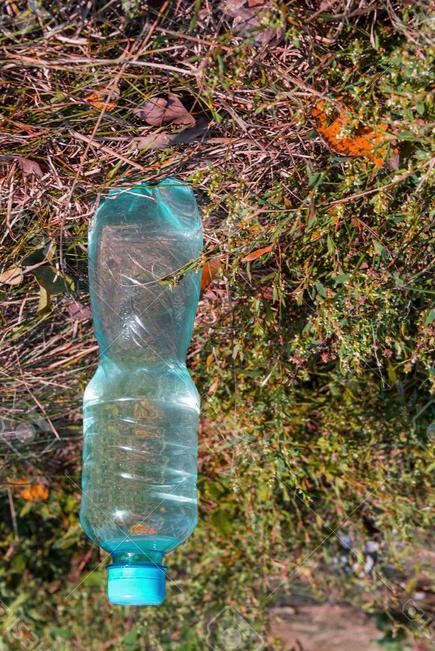Plastic: (74, 162, 220, 614)
